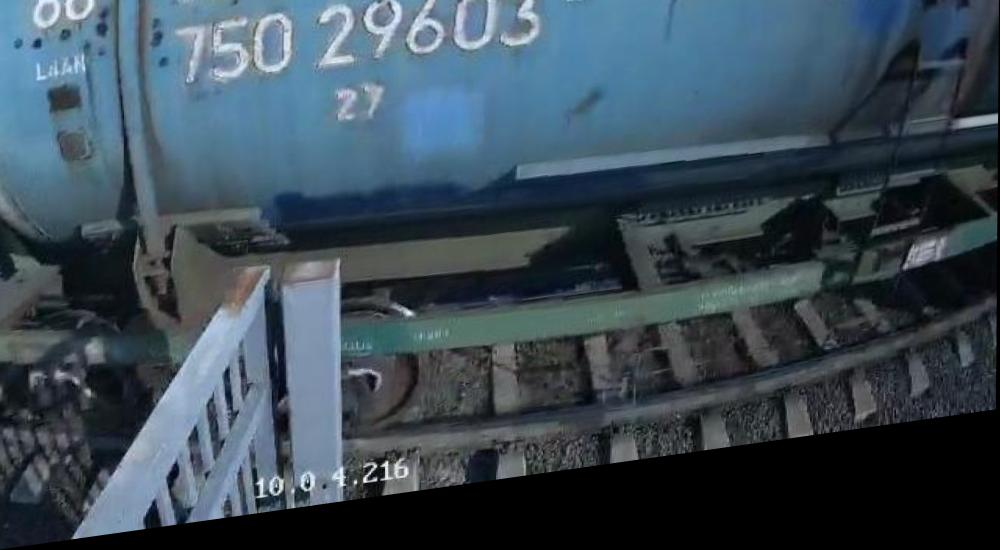Wagon-number: (173, 0, 545, 104)
